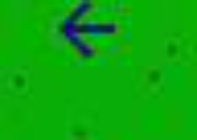ImgButton: (1, 1, 196, 139)
